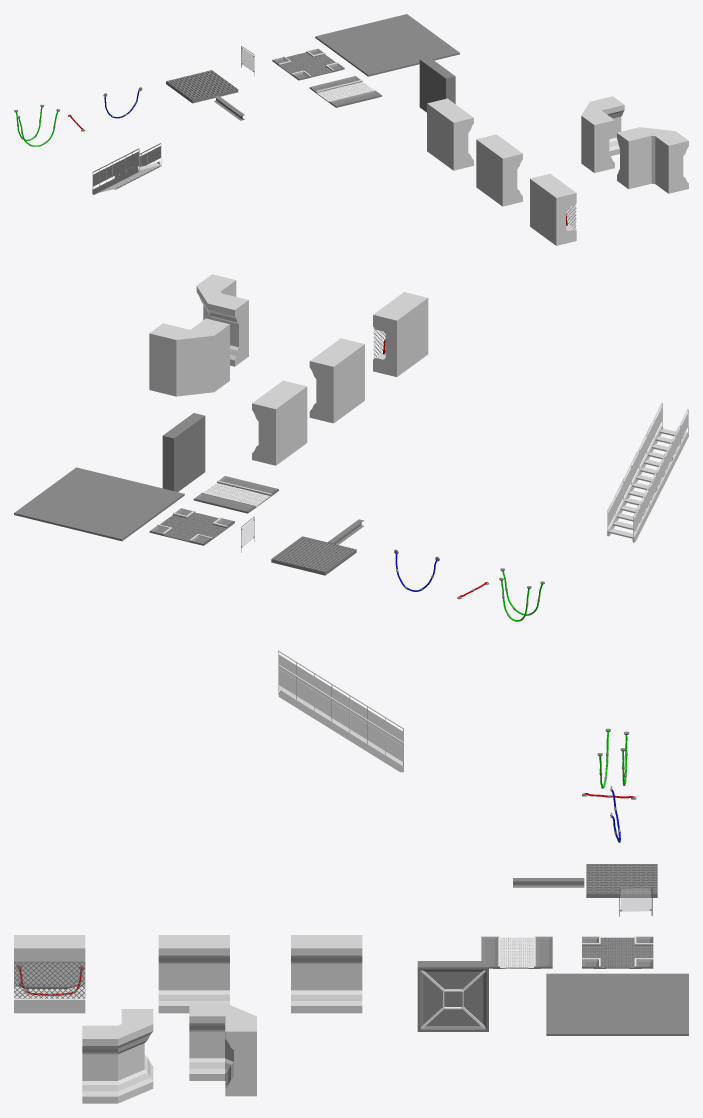
Rendered from AssetPack5.fbx.
3 views of the same model, one above another, from view 1: azimuth 30°, elevation 25°; view 2: azimuth 150°, elevation 25°; view 3: azimuth 270°, elevation 25° (orthographic). The views are drawn at different scales.
Parts seen in each view (by area): view 1: Plane.001, Plane.017, Plane.013, Plane.016, Plane.015, Plane.011, BagaPie_StairLinear, Plane.009, Plane, Plane.008, Plane.005, Plane.007 (+1 smaller); view 2: Plane.001, Plane.015, BagaPie_StairLinear, Plane.016, Plane.013, Plane.011, Plane.009, Plane.017, Plane, Plane.008, Plane.005, Plane.007 (+1 smaller); view 3: Plane.001, BagaPie_StairLinear, Plane.017, Plane.016, Plane.015, Plane.013, Plane.011, Plane.009, Plane, Plane.008, Plane.012, Plane.005 (+4 smaller).
Part boxes in pixels (bbox=[...]): Plane.001: bbox=[315, 14, 459, 76]; Plane.017: bbox=[617, 127, 688, 193]; Plane.013: bbox=[476, 134, 522, 206]; Plane.016: bbox=[427, 98, 473, 170]; Plane.015: bbox=[581, 96, 624, 172]; Plane.011: bbox=[530, 173, 576, 245]; BagaPie_StairLinear: bbox=[92, 143, 161, 194]; Plane.009: bbox=[419, 57, 455, 112]; Plane: bbox=[166, 70, 238, 103]; Plane.008: bbox=[280, 52, 335, 77]; Plane.005: bbox=[309, 76, 381, 107]; Plane.007: bbox=[317, 82, 372, 101]; Plane.001: bbox=[14, 467, 184, 541]; Plane.015: bbox=[149, 318, 229, 396]; BagaPie_StairLinear: bbox=[607, 402, 688, 542]; Plane.016: bbox=[252, 380, 307, 465]; Plane.013: bbox=[309, 338, 364, 423]; Plane.011: bbox=[373, 292, 428, 376]; Plane.009: bbox=[162, 413, 205, 491]; Plane.017: bbox=[196, 274, 248, 366]; Plane: bbox=[271, 536, 356, 575]; Plane.008: bbox=[160, 512, 226, 541]; Plane.005: bbox=[193, 476, 278, 513]; Plane.007: bbox=[204, 483, 270, 506]; Plane.001: bbox=[546, 973, 688, 1035]; BagaPie_StairLinear: bbox=[278, 650, 403, 772]; Plane.017: bbox=[82, 1009, 153, 1103]; Plane.016: bbox=[291, 935, 362, 1013]; Plane.015: bbox=[189, 1003, 256, 1096]; Plane.013: bbox=[158, 935, 229, 1013]; Plane.011: bbox=[14, 935, 85, 1013]; Plane.009: bbox=[417, 961, 488, 1031]; Plane: bbox=[586, 864, 657, 897]; Plane.008: bbox=[582, 937, 653, 968]; Plane.012: bbox=[14, 962, 85, 998]; Plane.005: bbox=[481, 936, 552, 968].
Size of the model in its own units: 2082 by 432 by 1891.
